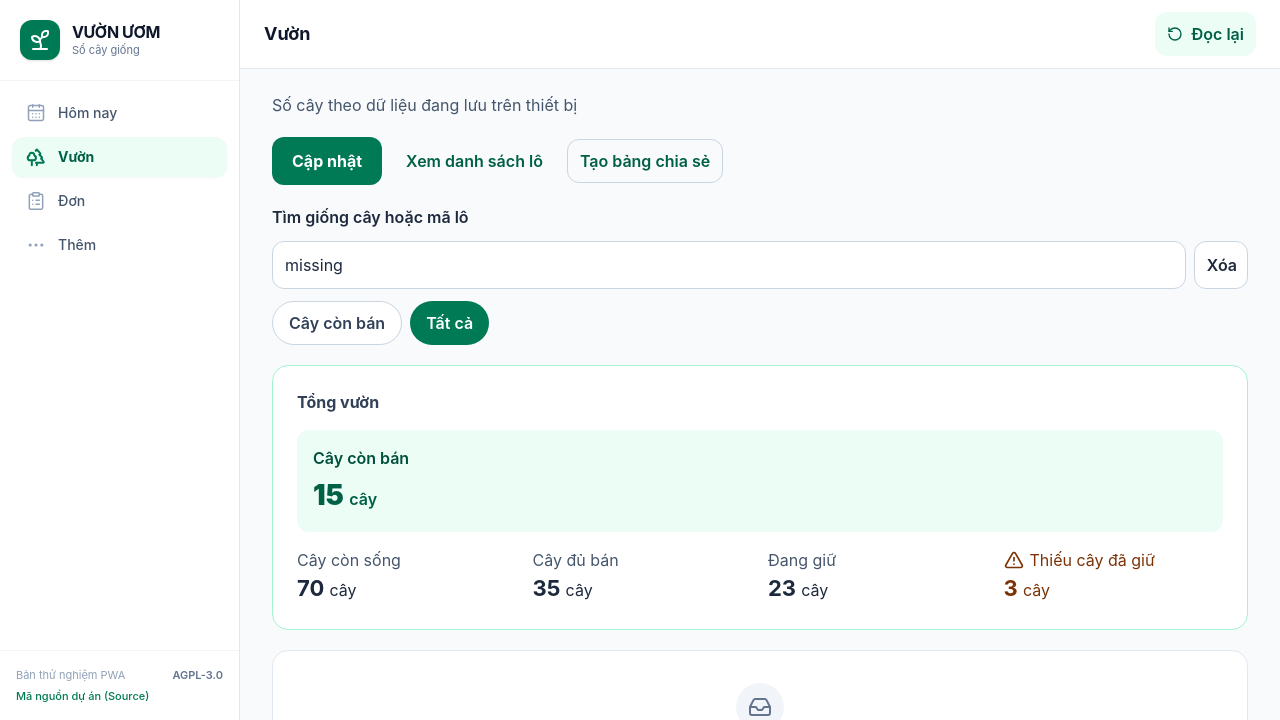
Scenario: Garden availability UI (real Dexie) › keeps garden totals for no-results and clearing search, without business writes
expect the text "15" is shown: met, box 313,478 -> 344,512
Click the button with aria-label "Xóa tìm kiếm" at (1221, 265), box 1194,241 -> 1248,289
(page scrolled)
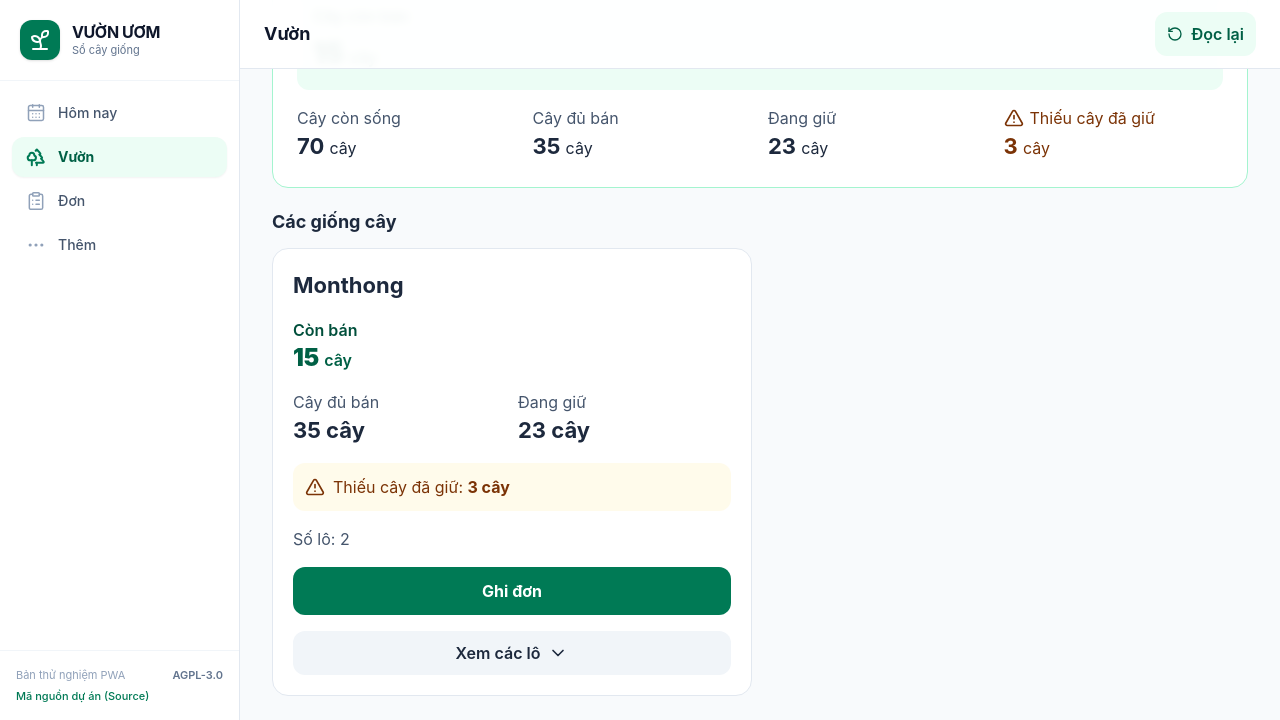
expect the element "Monthong" is shown: met, box 272,248 -> 752,696
